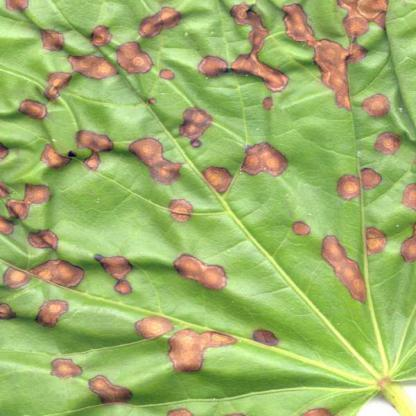grape leaf black rot: (1, 1, 415, 415)
